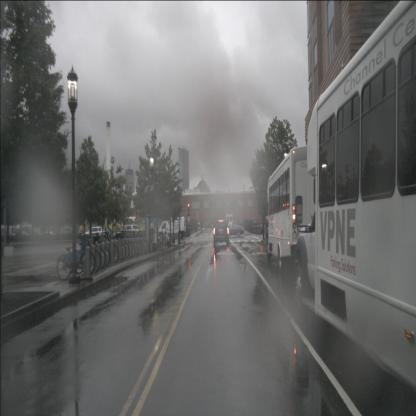vehicle-bus-rigid: (292, 1, 416, 390), (265, 144, 354, 272)
vehicle-car: (157, 217, 187, 240), (212, 219, 230, 247), (119, 225, 140, 240), (222, 224, 244, 238), (84, 227, 103, 242)
vehicle-motorcycle: (155, 227, 171, 248)
